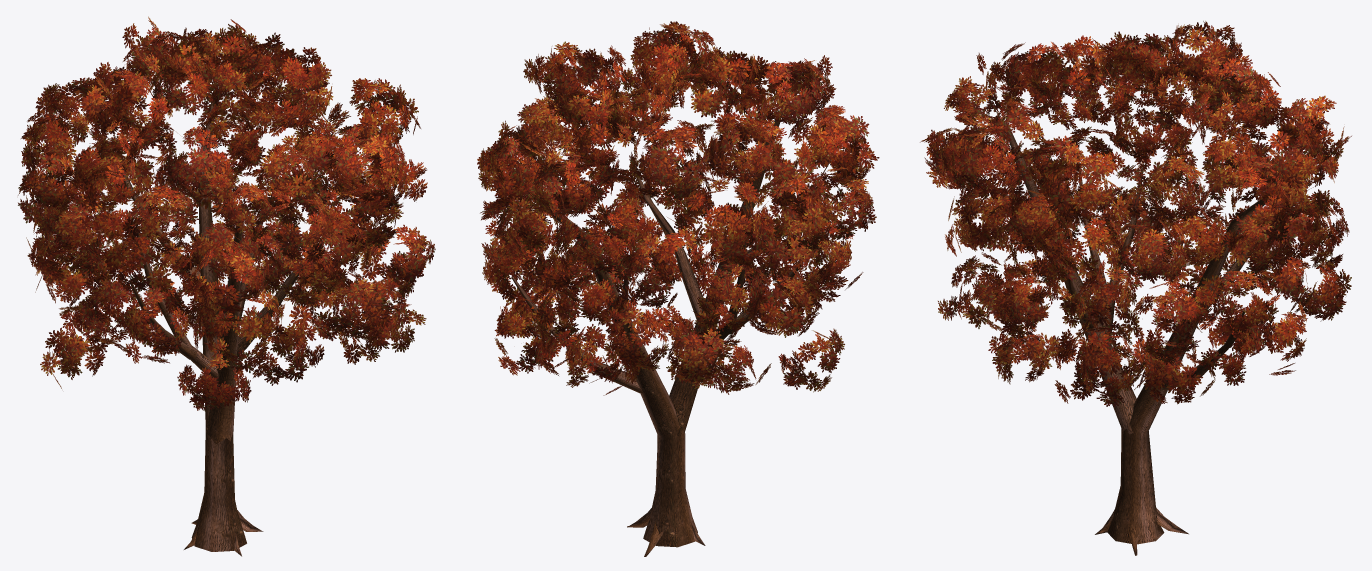
Rendered from mm7_deco_7tree20.glb.
3 views of the same model, side by side, from view 1: azimuth 30°, elevation 25°; view 2: azimuth 150°, elevation 25°; view 3: azimuth 270°, elevation 25° (orthographic).
Visible parts, largest first — view 1: Tree; view 2: Tree; view 3: Tree.
Part boxes in pixels (left/top/right/bottom): Tree: left=18, top=16, right=435, bottom=556; Tree: left=477, top=21, right=879, bottom=556; Tree: left=920, top=21, right=1351, bottom=555.
Bounding box in the file's own units: 6.39 × 7.87 × 6.43.
Materials: 2 (2 with a texture image).
